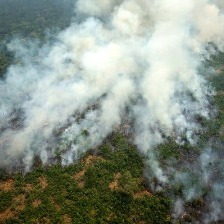incendio: (1, 80, 135, 182), (147, 61, 217, 221)
